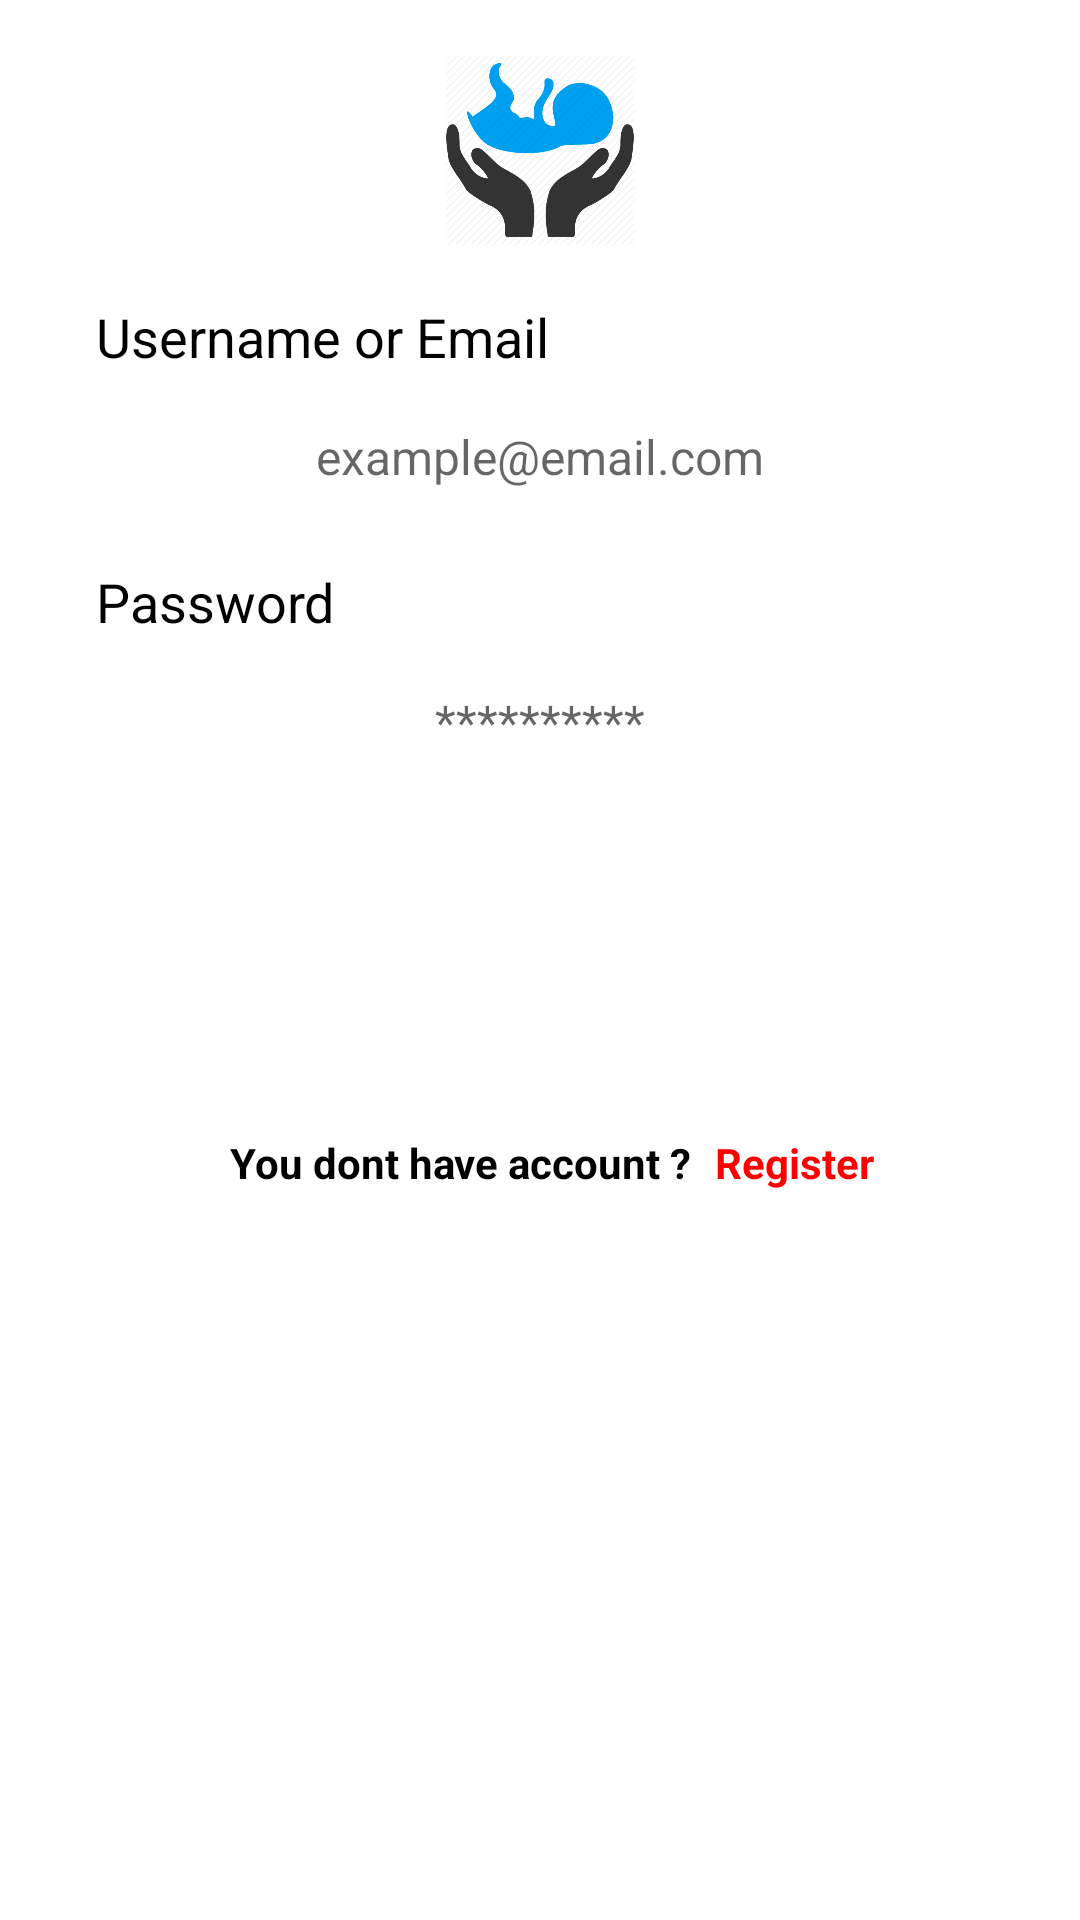

Icon click points for this 1080×1920 phone screenshot, format point (x, y):
child helth: point (540, 150)
